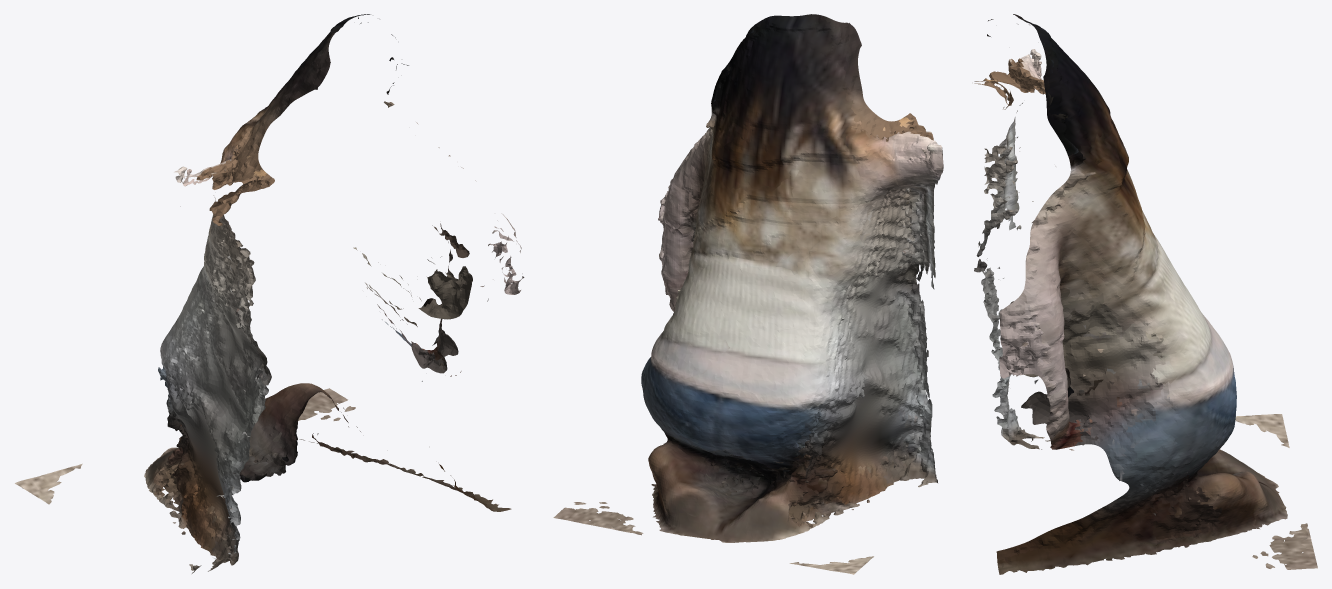
3 renders of one model, left to right at view 1: azimuth 30°, elevation 25°; view 2: azimuth 150°, elevation 25°; view 3: azimuth 270°, elevation 25°, orthographic. The views are drawn at different scales.
Bounding box in the file's own units: 0.6686 × 0.9056 × 0.5867.
Materials: 1 (1 with a texture image).
